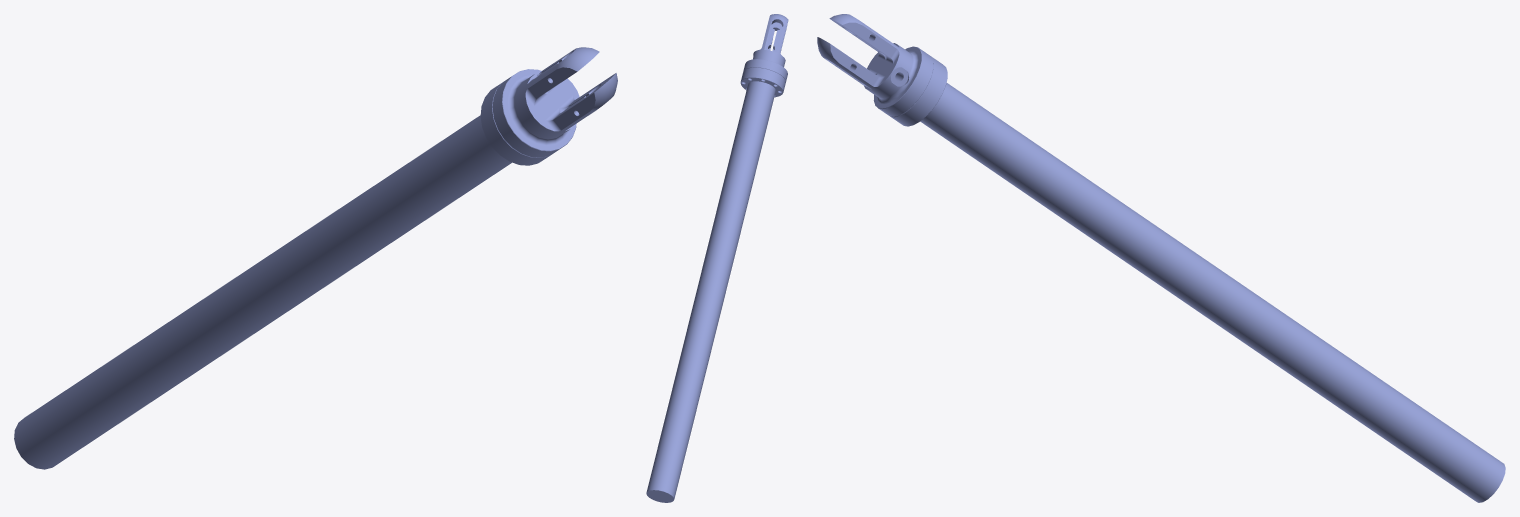
Rendered from PistonRight.obj.
3 views of the same model, side by side, from view 1: azimuth 30°, elevation 25°; view 2: azimuth 150°, elevation 25°; view 3: azimuth 270°, elevation 25° (orthographic). The views are drawn at different scales.
Parts seen in each view (by area): view 1: 1200_derived_Rod.stp.001; view 2: 1200_derived_Rod.stp.001; view 3: 1200_derived_Rod.stp.001.
Boxes of the visible parts, x1,y1,x2,y2 form: 1200_derived_Rod.stp.001: [14, 47, 617, 469]; 1200_derived_Rod.stp.001: [646, 14, 788, 502]; 1200_derived_Rod.stp.001: [817, 14, 1505, 502].
Bounding box in the file's own units: 0.2498 × 0.7592 × 0.8675.
